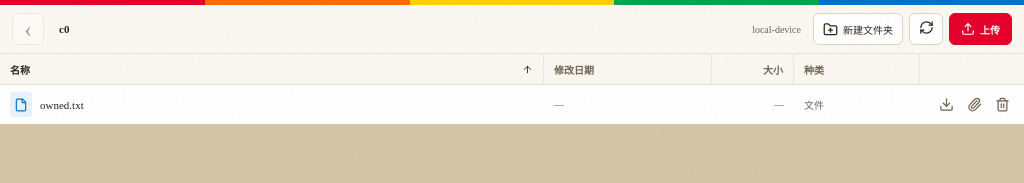
it: channel file browser (FilesFeature + useAttachmentTransactions) › does not treat a delete as succeeded once the captured file owner goes stale mid-flight
Click the button named "删除" at [1002, 104], box [988,90,1016,118]
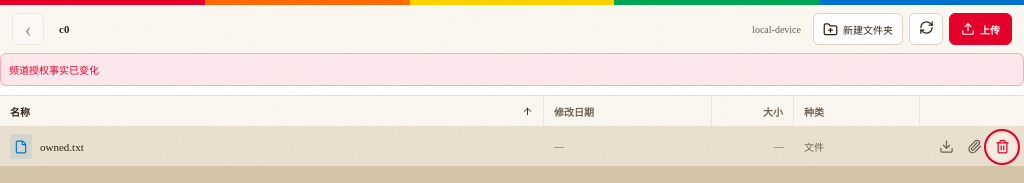
Expected: the row "owned.txt — — 文件" is shown, [0,127,1023,166]
Now the message reads "频道授权事实已变化", box [9,65,99,76]
